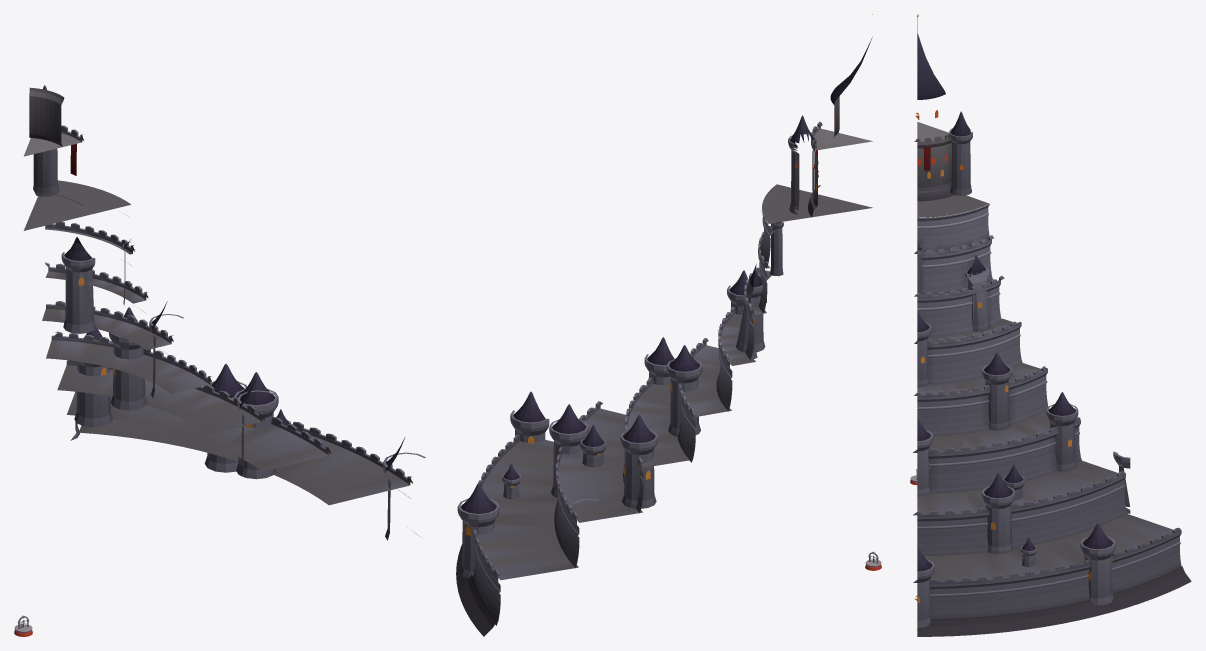
File: fortress-s3-3MceFd3P.glb
The picture shows the model from 3 angles, left to right: view 1: azimuth 30°, elevation 25°; view 2: azimuth 150°, elevation 25°; view 3: azimuth 270°, elevation 25°; orthographic projection. The views are drawn at different scales.
Parts seen in each view (by area): view 1: sc_landmark_0; view 2: sc_landmark_0; view 3: sc_landmark_0.
Boxes of the visible parts, x1,y1,x2,y2 form: sc_landmark_0: [23, 14, 425, 540]; sc_landmark_0: [456, 14, 872, 636]; sc_landmark_0: [913, 14, 1191, 636].
Bounding box in the file's own units: 330 × 479 × 258.
